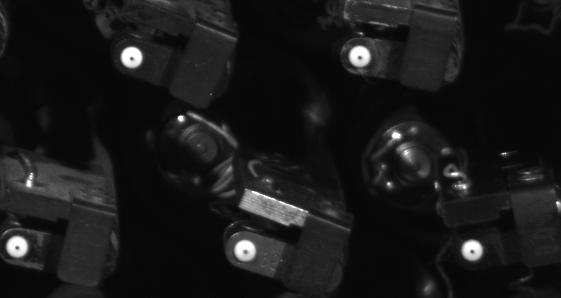fiber: (343, 40, 378, 72), (3, 230, 34, 264), (230, 236, 263, 266), (115, 44, 150, 72), (458, 234, 488, 266)
